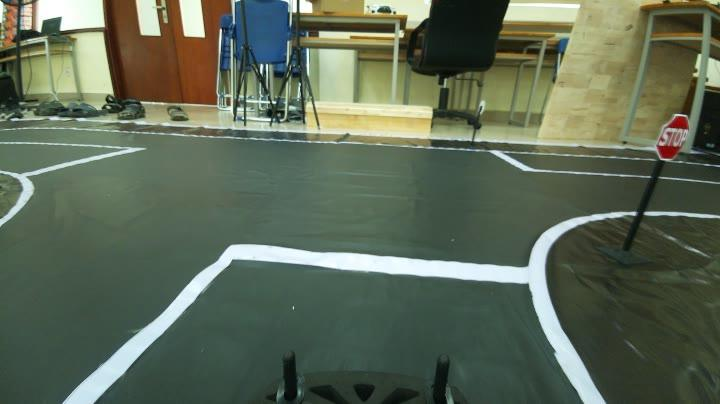stop: (650, 111, 694, 166)
